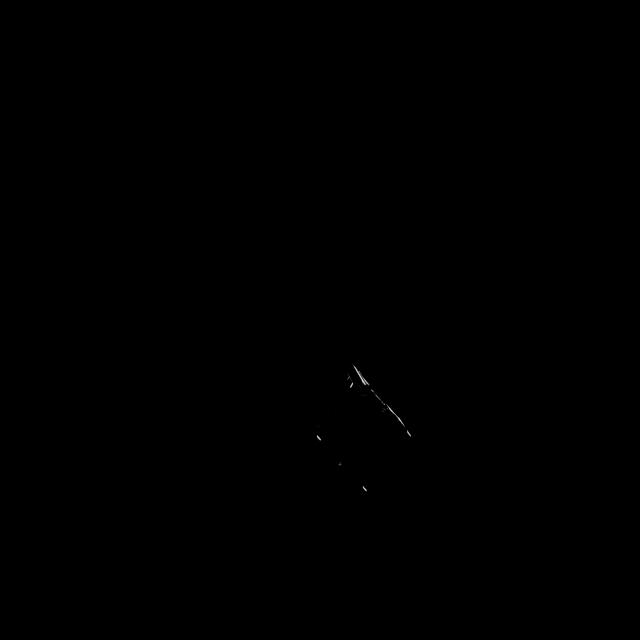satellite: (300, 358, 424, 502)
